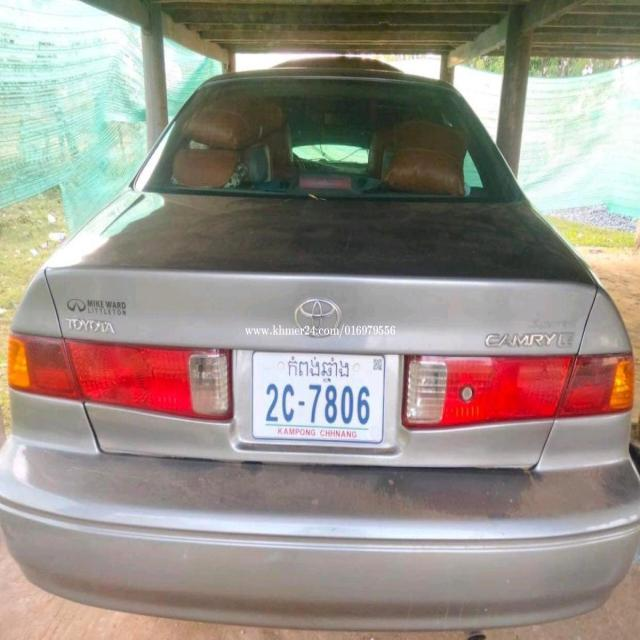Kampong_Chhnang: (287, 355, 351, 385)
